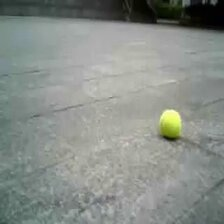tennis: (160, 111, 181, 138)
